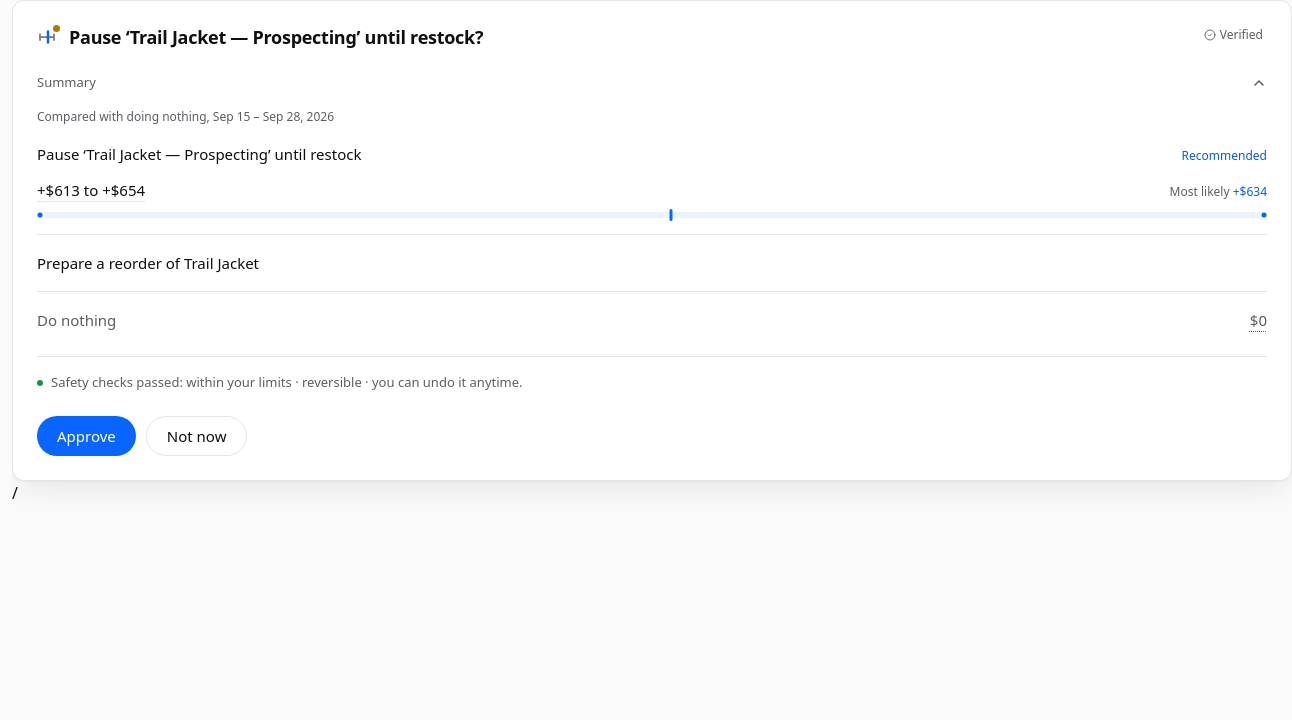
a decision in the conversation › changes nothing when the owner says not now
The width and height of the screenshot is (1292, 720).
Click the button "Not now".
click(197, 436)  # box [146,416,247,456]
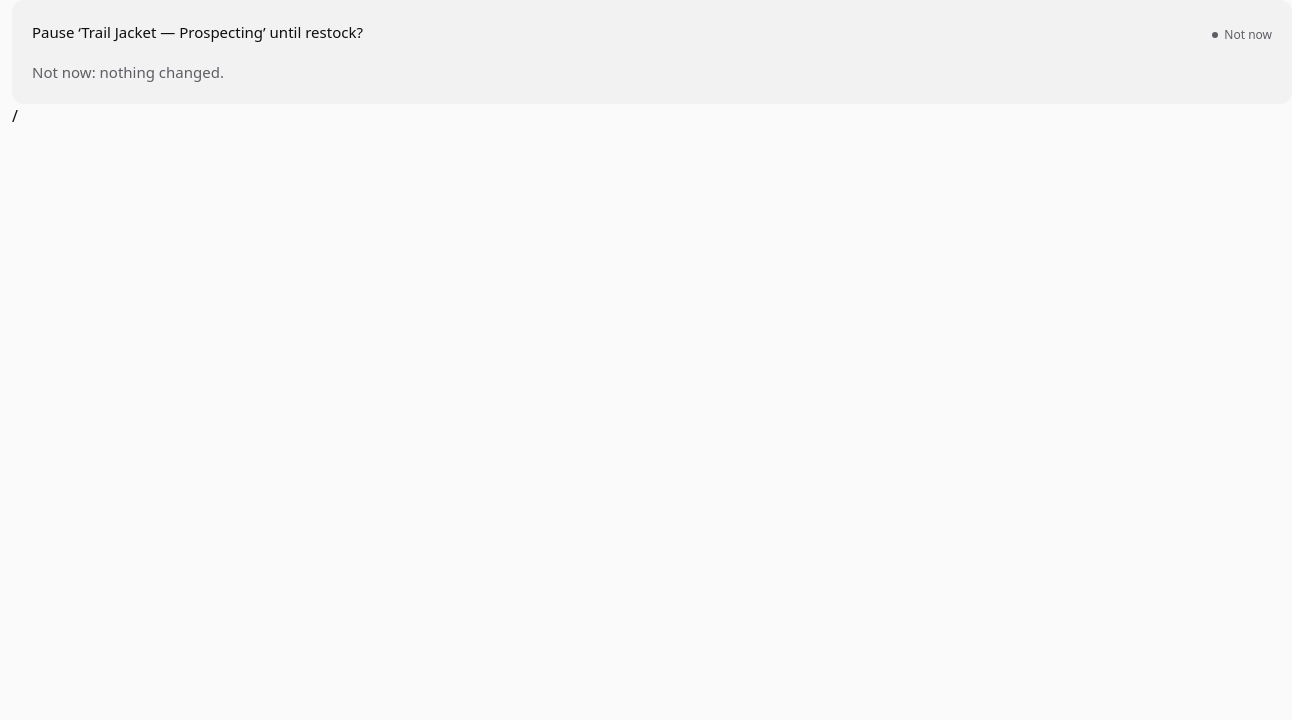
Result: the text "Not now: nothing changed." is shown at [32,62,224,82]
